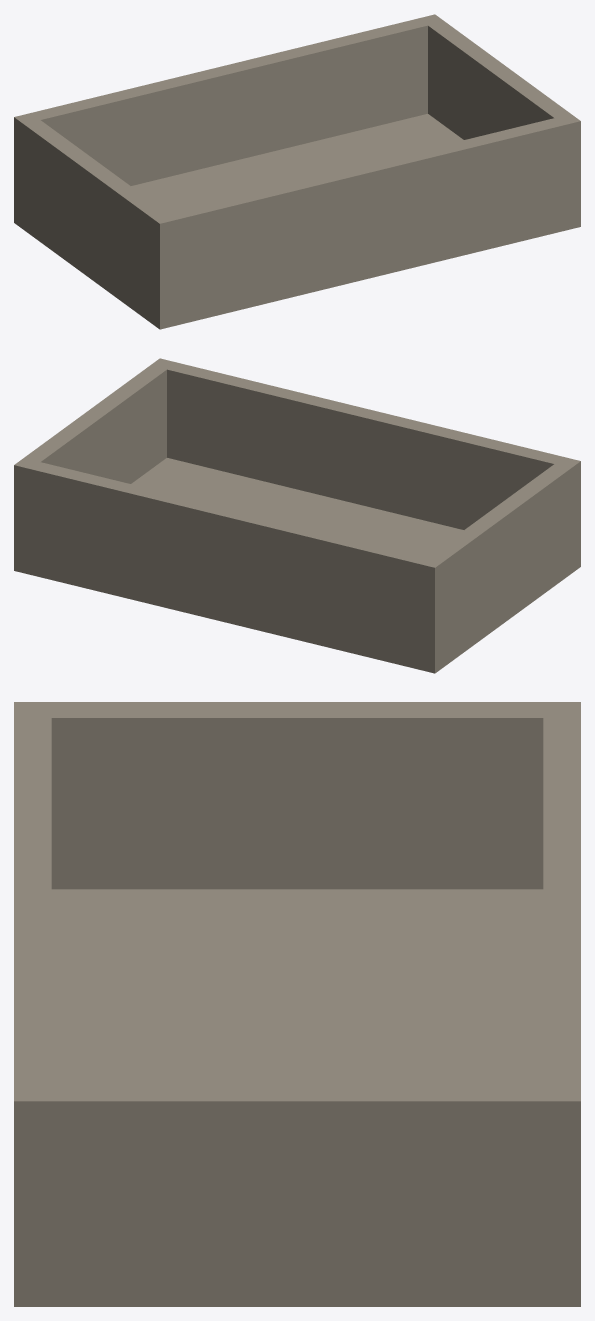
The model's file is rec_5x3.fbx.
The picture shows the model from 3 angles, top to bottom: view 1: azimuth 30°, elevation 25°; view 2: azimuth 150°, elevation 25°; view 3: azimuth 270°, elevation 25°; orthographic projection. The views are drawn at different scales.
Parts seen in each view (by area): view 1: geo_rec_04; view 2: geo_rec_04; view 3: geo_rec_04.
Part boxes in pixels (<box>): geo_rec_04: <box>14,14,580,329</box>; geo_rec_04: <box>14,358,580,673</box>; geo_rec_04: <box>14,702,580,1306</box>.
Size of the model in its own units: 500 by 120 by 300.
